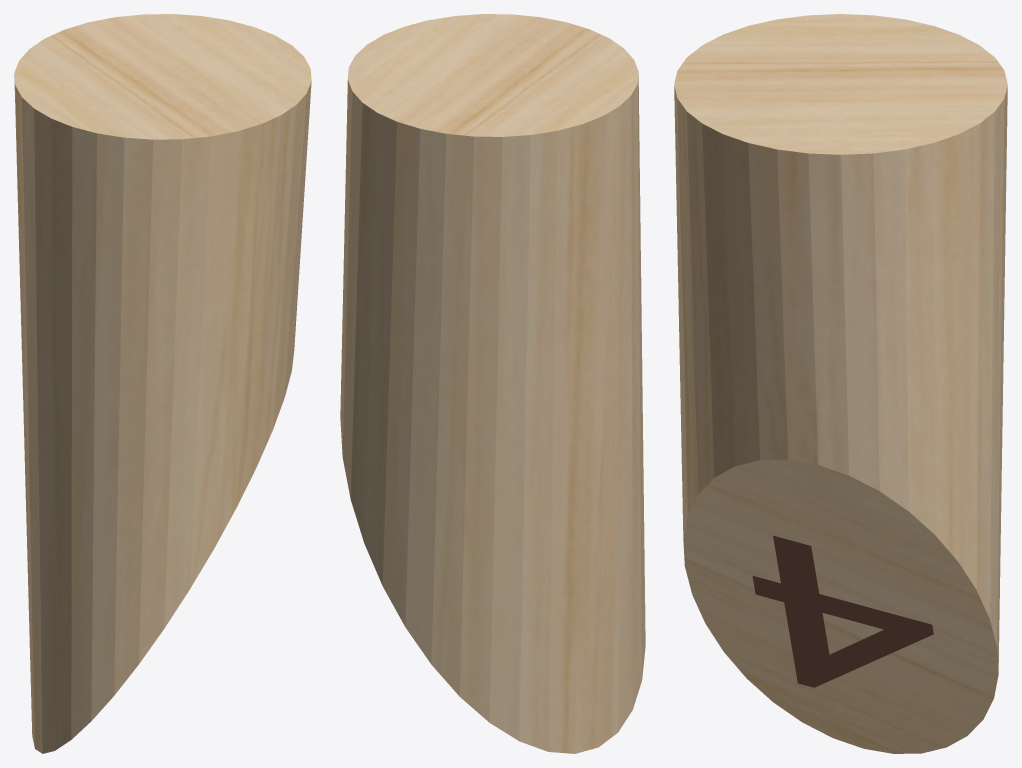
The model's file is pin4.glb.
3 renders of one model, left to right at view 1: azimuth 30°, elevation 25°; view 2: azimuth 150°, elevation 25°; view 3: azimuth 270°, elevation 25°, orthographic. The views are drawn at different scales.
Parts seen in each view (by area): view 1: 円柱.003; view 2: 円柱.003; view 3: 円柱.003.
Boxes of the visible parts, x1=… form: 円柱.003: x1=14, y1=14, x2=311, y2=753; 円柱.003: x1=340, y1=14, x2=645, y2=753; 円柱.003: x1=674, y1=14, x2=1007, y2=753.
Bounding box in the file's own units: 1.16 × 2.79 × 1.16.
2 materials, 1 textured.
